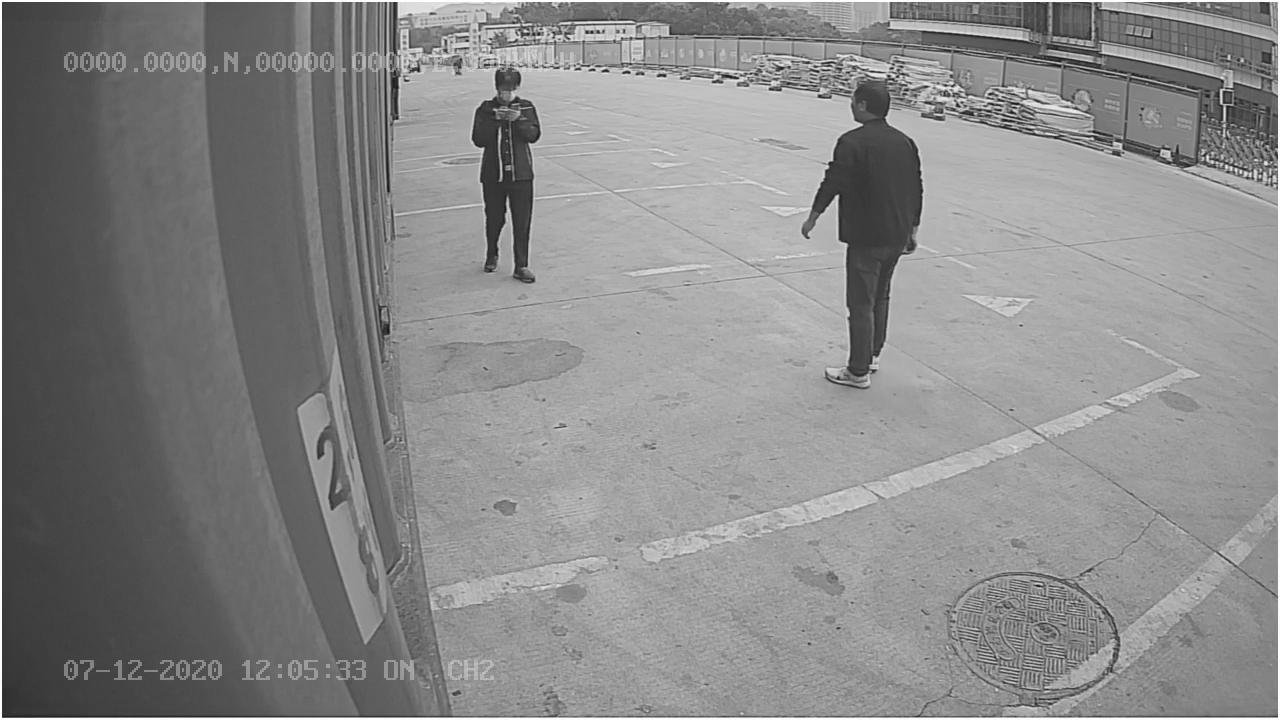person: (801, 80, 930, 387)
